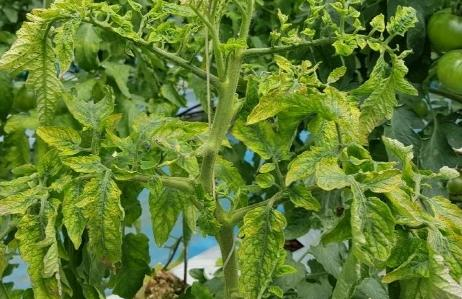Tomato leaf yellow virus: (75, 170, 130, 283), (234, 195, 291, 299), (342, 58, 411, 141), (11, 202, 65, 299), (421, 192, 462, 299), (346, 192, 394, 278), (147, 182, 189, 250), (243, 83, 291, 138), (277, 142, 336, 185), (0, 184, 53, 219), (24, 126, 87, 155), (311, 159, 354, 193), (371, 166, 405, 199)
